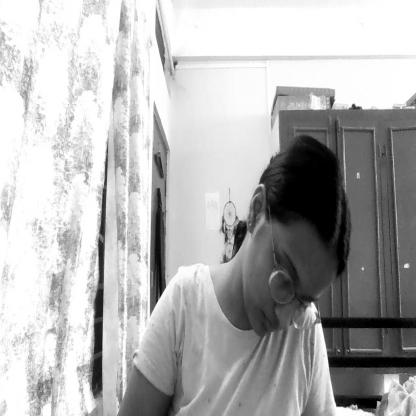Distracted: (242, 139, 356, 334)
